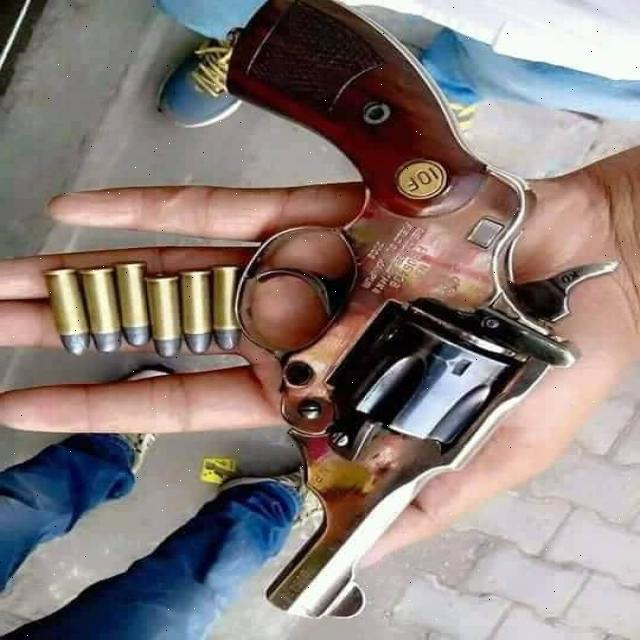gun: (139, 0, 624, 629)
